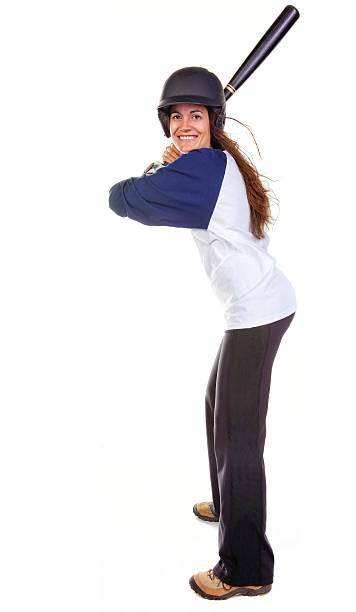bita: (222, 5, 298, 106)
